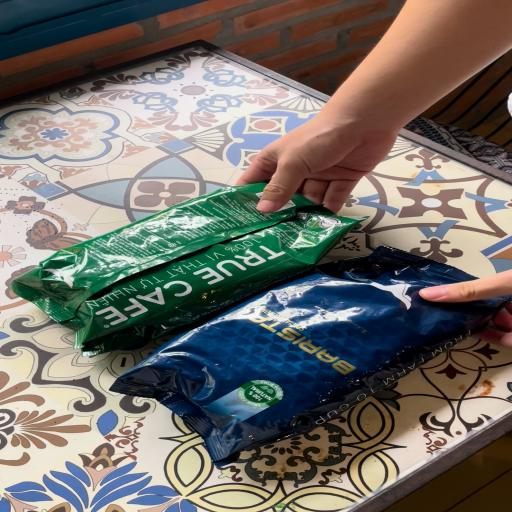cafe_hat: (112, 246, 510, 465)
cafe_xay: (12, 184, 363, 355)
